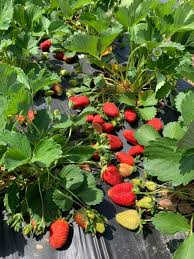ripe: (47, 219, 73, 250), (106, 179, 135, 206), (70, 208, 92, 236), (99, 131, 127, 150), (99, 164, 124, 184), (112, 151, 138, 165), (145, 116, 164, 135), (122, 127, 139, 146), (117, 161, 138, 176), (124, 142, 148, 155), (100, 101, 118, 118), (68, 94, 88, 108), (85, 112, 102, 125), (123, 108, 137, 123), (102, 121, 117, 131), (85, 209, 100, 219)
unripe: (114, 207, 145, 233), (135, 195, 157, 209), (131, 175, 145, 194), (20, 224, 34, 237), (145, 181, 158, 191), (94, 222, 105, 233)
